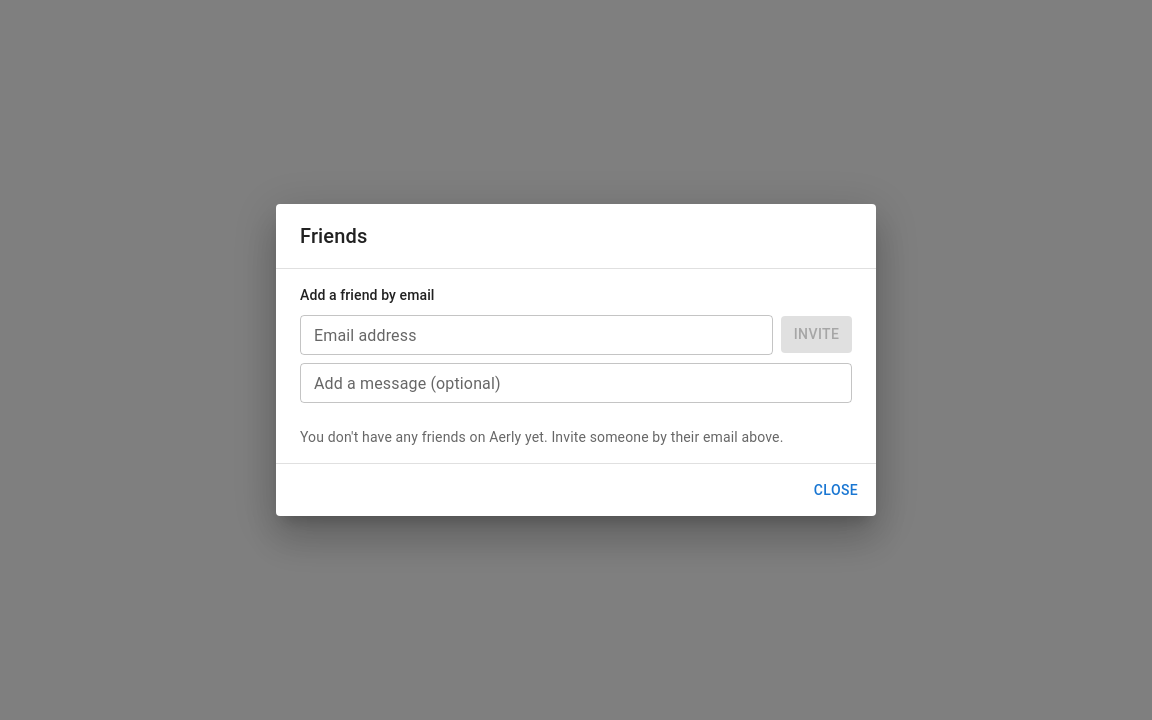
Test case: FriendsDialog › sends an invite with the optional message, then dismisses the success alert
In the field labelled "Email address": point(536, 335) [300,315,773,355], type "bob@example.com"
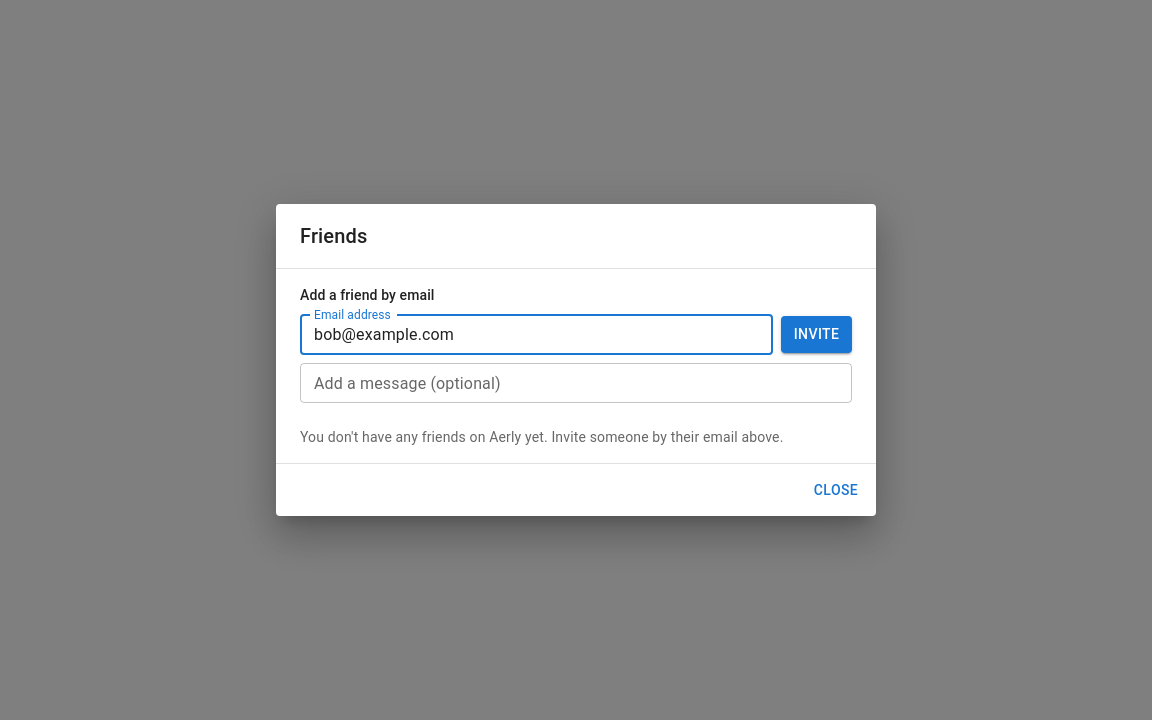
In the text box labelled "Add a message (optional)": point(576, 383) [314,371,838,394], type "come join us"
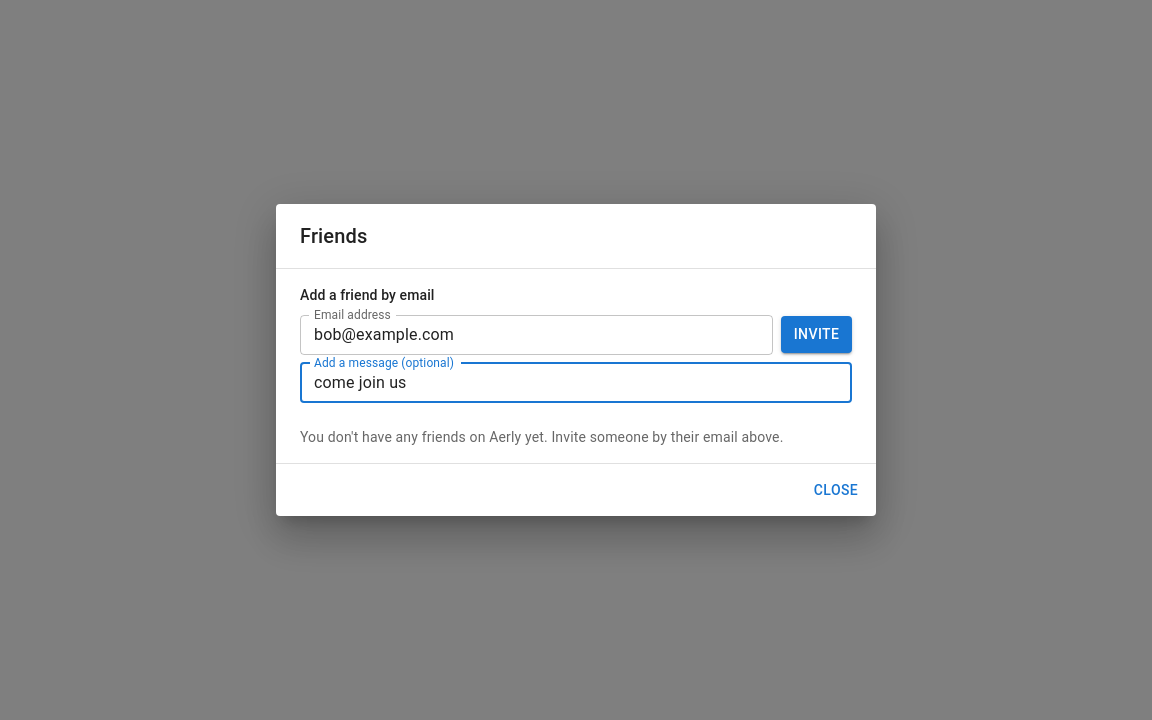
Click the button "Invite": point(816, 335) [781,316,852,353]
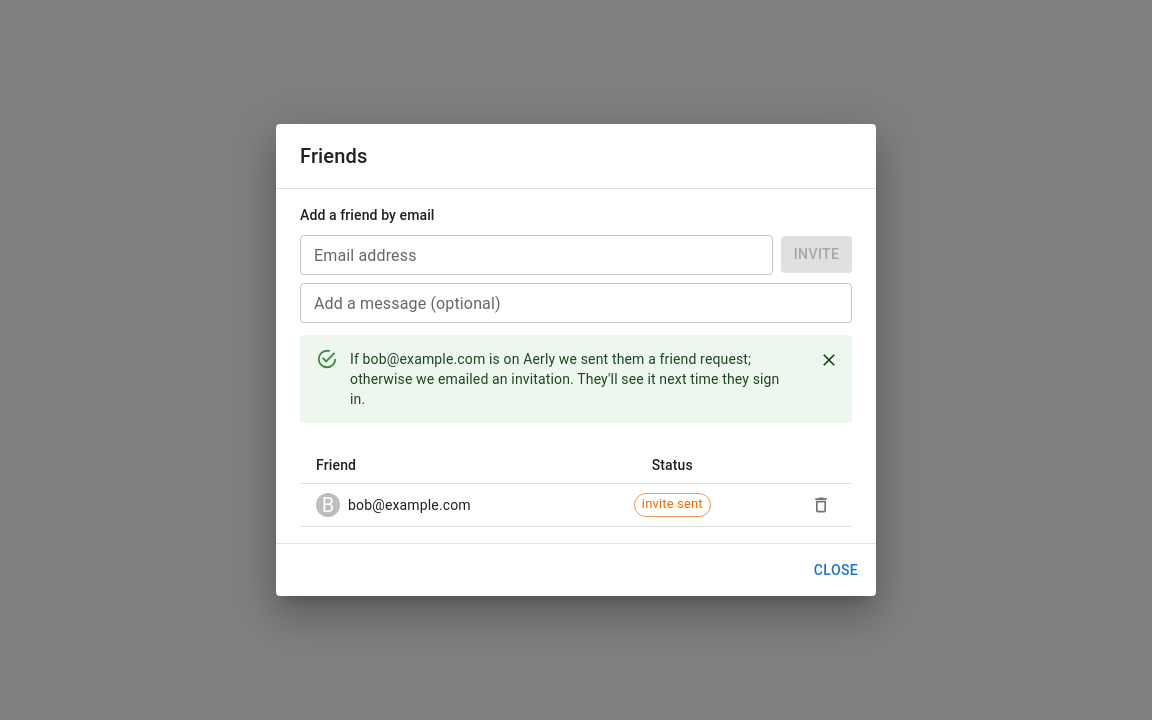
Expected: the text "invite sent" is shown, [642,496,703,512]
Expected: the button named "Close" is shown
Click the button named "Close": point(829, 360) [814,345,844,375]
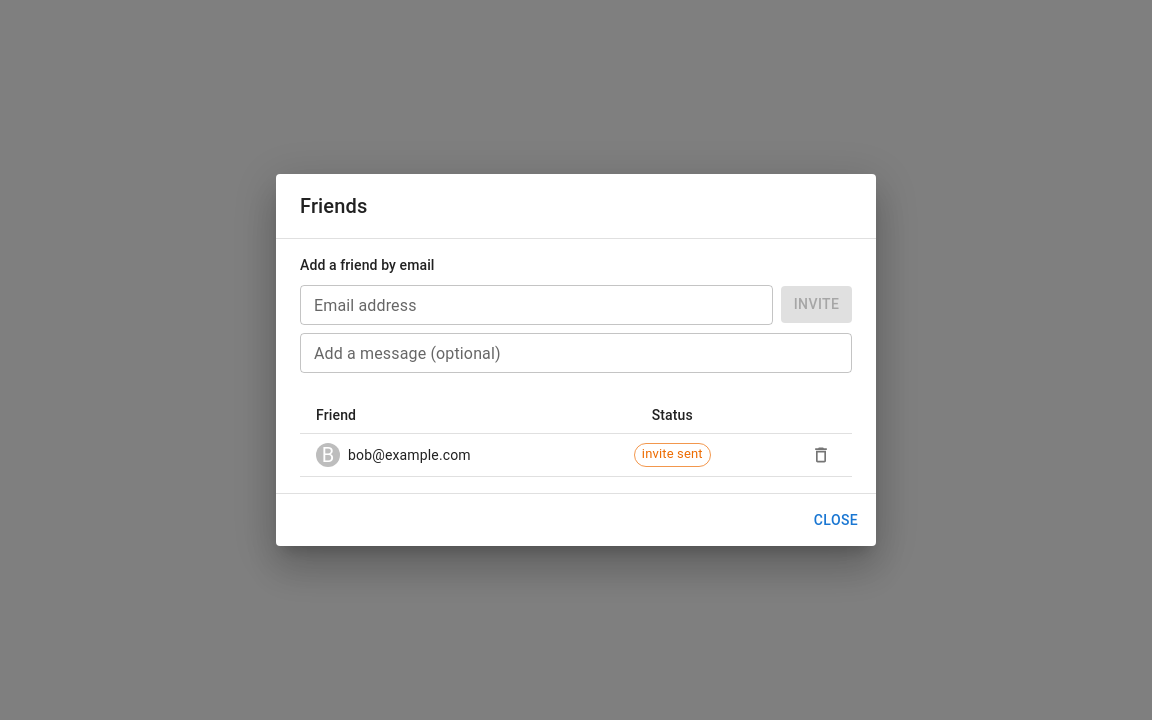
Expected: the text "If bob@example.com is on Aerly we sent them a friend request" is gone
